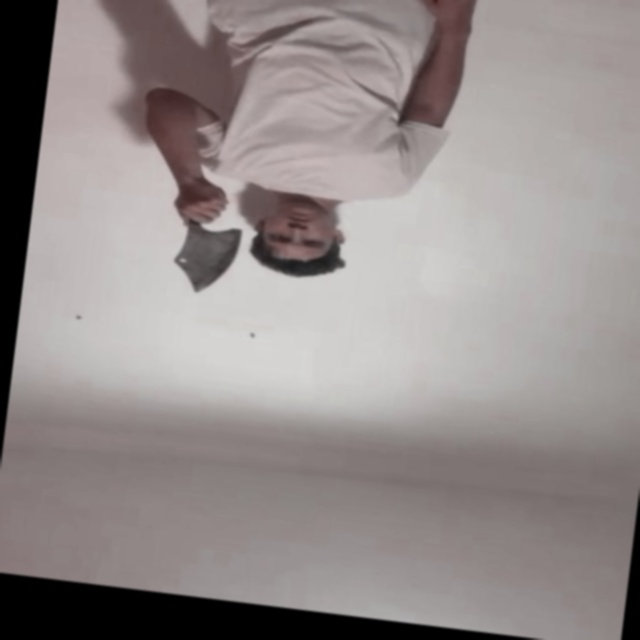Sharp-Object: (169, 220, 242, 300)
